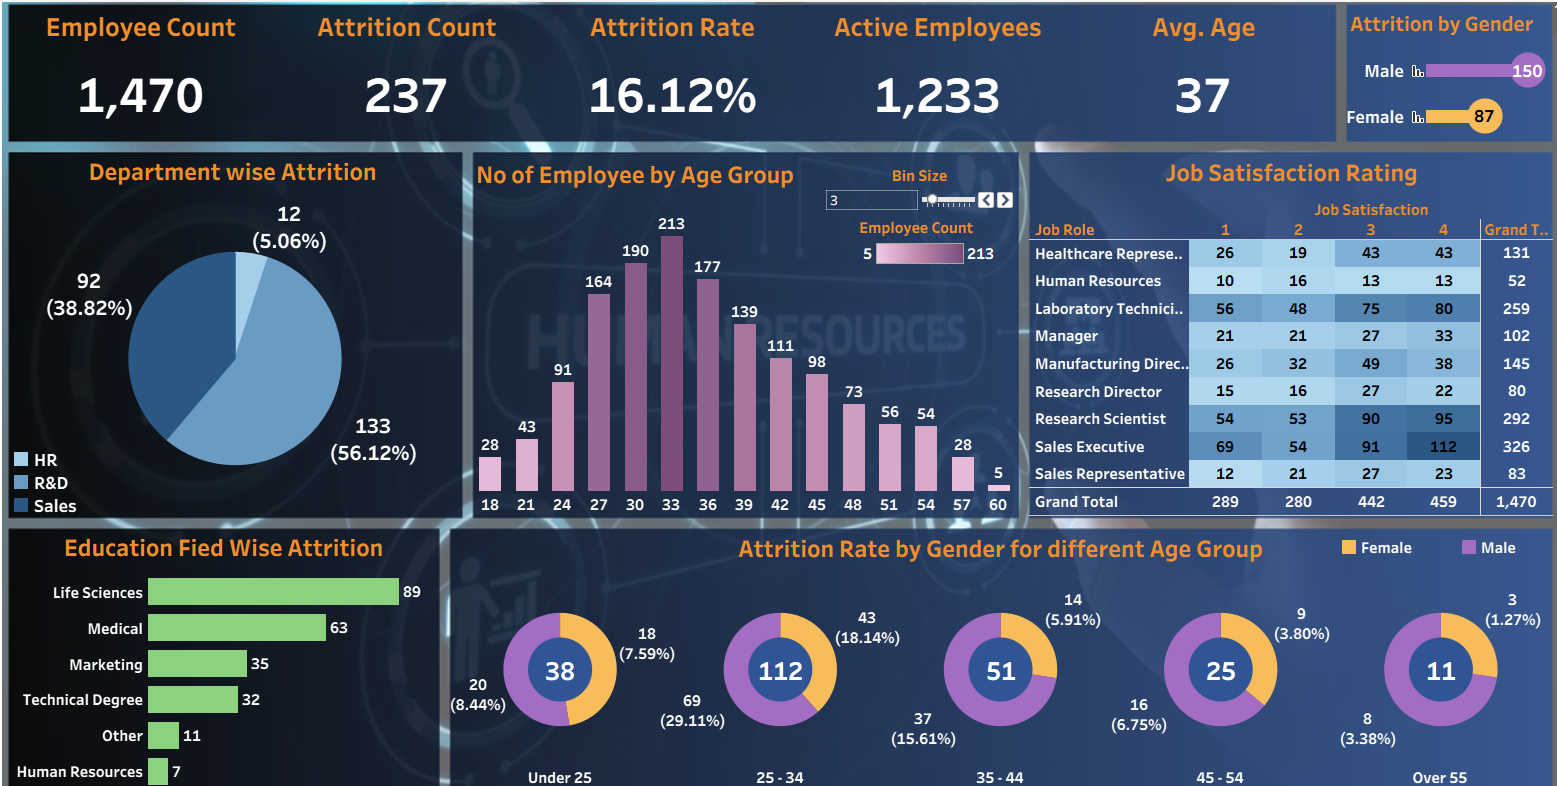

What the dashboard file says about the page in this screenshot:
{"tool":"tableau","page":{"name":"HR Analytics Dashboard","canvas":[1000,1000],"units":"permille","ordinal":0},"visuals":[{"type":"image","param":"Image/HR background.png","box":[4.9,8.9,990.2,982.2]},{"type":"text","box":[30.5,21.1,939.1,71.1]},{"type":"filter","title":"Department wise Attrition ","param":"[federated.0owfflt0s6evbg1gxt36q06io6x0].[none:Education:nk]","box":[773.9,31.1,97.5,55.6]},{"type":"worksheet","title":"KPI","mark":"Automatic","box":[29.2,105.6,809.9,155.6]},{"type":"worksheet","title":"Attrition by Gender","mark":"Automatic","rows":["Gender"],"cols":["Calculation_2615768425504768","Calculation_2615768425504768"],"box":[844.6,107.8,124.9,148.9]},{"type":"worksheet","title":"Department wise Attrition ","mark":"Pie","box":[30.5,270,274.2,408.9]},{"type":"worksheet","title":"Job Satisfaction Rating","mark":"Square","rows":["Job Role"],"cols":["Job Satisfaction"],"box":[651.4,271.1,319.9,404.4]},{"type":"worksheet","title":"No of Employee by Age Group","mark":"Automatic","rows":["Employee Count"],"cols":["Age (bin)"],"box":[312,273.3,332.1,402.2]},{"type":"parameter","param":"[Parameters].[Parameter 1]","box":[525.9,285.6,117.6,50]},{"type":"legend","title":"No of Employee by Age Group","param":"[federated.0owfflt0s6evbg1gxt36q06io6x0].[sum:Employee Count:qk]","box":[547.8,343.3,85.3,97.8]},{"type":"legend","title":"Department wise Attrition ","param":"[federated.0owfflt0s6evbg1gxt36q06io6x0].[none:Department:nk]","box":[30.5,600,85.3,90]},{"type":"worksheet","title":"Education Fied Wise Attrition","mark":"Automatic","rows":["Education Field"],"cols":["Calculation_2615768425504768"],"box":[29.2,687.8,262.6,291.1]},{"type":"worksheet","title":"Attrition Rate by Gender for different Age Group","mark":"Pie","rows":["Calculation_2615768735248388","Calculation_2615768735248388"],"cols":["CF_age band"],"box":[298.6,688.9,670.9,290]},{"type":"legend","title":"Attrition Rate by Gender for different Age Group","param":"[federated.0owfflt0s6evbg1gxt36q06io6x0].[none:Gender:nk]","box":[840.3,698.9,154.8,34.4]}]}

Visuals, with their boxes on the dashboard's canvas, which has no fixed pixel size, in thousandths of its width and height (x1, y1, x2, y2). These are canvas units, not pixel positions in the 1557x786 screenshot, which may show the page scaled, cropped or inside an application window:
image: [x1=5, y1=9, x2=995, y2=991]
text: [x1=30, y1=21, x2=970, y2=92]
"Department wise Attrition " filter: [x1=774, y1=31, x2=871, y2=87]
"KPI" worksheet: [x1=29, y1=106, x2=839, y2=261]
"Attrition by Gender" worksheet: [x1=845, y1=108, x2=970, y2=257]
"Department wise Attrition " worksheet (Pie marks): [x1=30, y1=270, x2=305, y2=679]
"Job Satisfaction Rating" worksheet (Square marks): [x1=651, y1=271, x2=971, y2=676]
"No of Employee by Age Group" worksheet: [x1=312, y1=273, x2=644, y2=676]
parameter: [x1=526, y1=286, x2=644, y2=336]
"No of Employee by Age Group" legend: [x1=548, y1=343, x2=633, y2=441]
"Department wise Attrition " legend: [x1=30, y1=600, x2=116, y2=690]
"Education Fied Wise Attrition" worksheet: [x1=29, y1=688, x2=292, y2=979]
"Attrition Rate by Gender for different Age Group" worksheet (Pie marks): [x1=299, y1=689, x2=970, y2=979]
"Attrition Rate by Gender for different Age Group" legend: [x1=840, y1=699, x2=995, y2=733]
